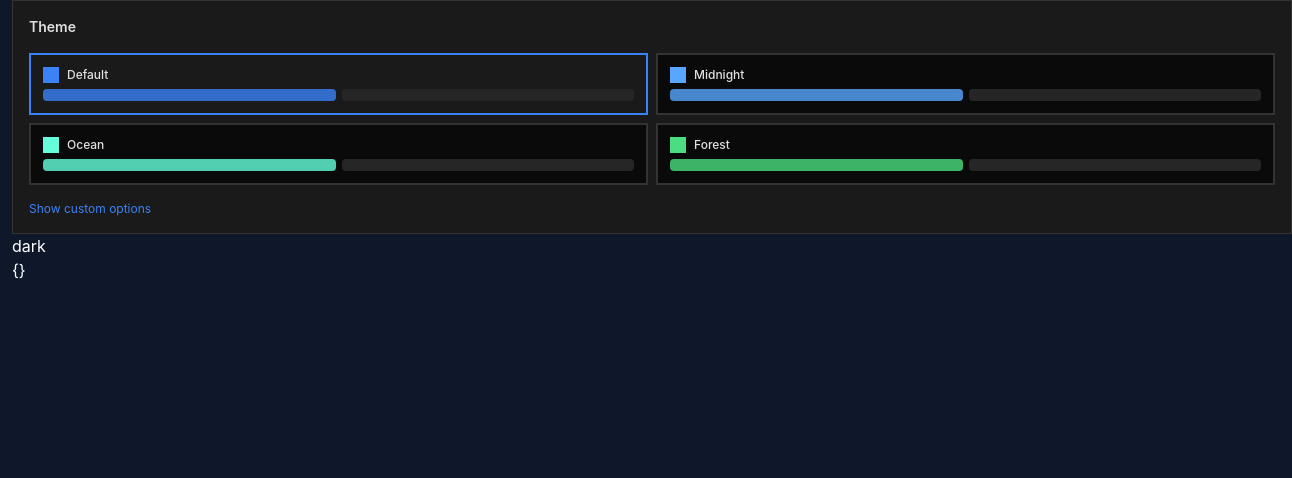
ThemeSwitcher › selecting preset after custom resets to preset
Click the button with test id "toggle-custom": (45, 208) [29,201,1275,217]
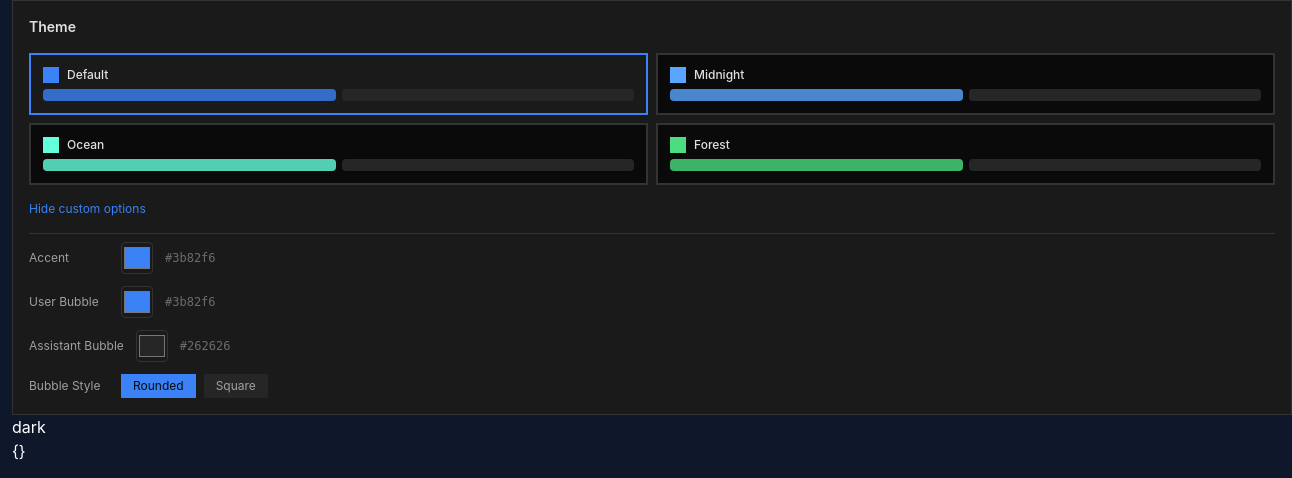
In the colour field with test id "color-picker-accent": (137, 258) [121,242,153,274], type "#ff0000"
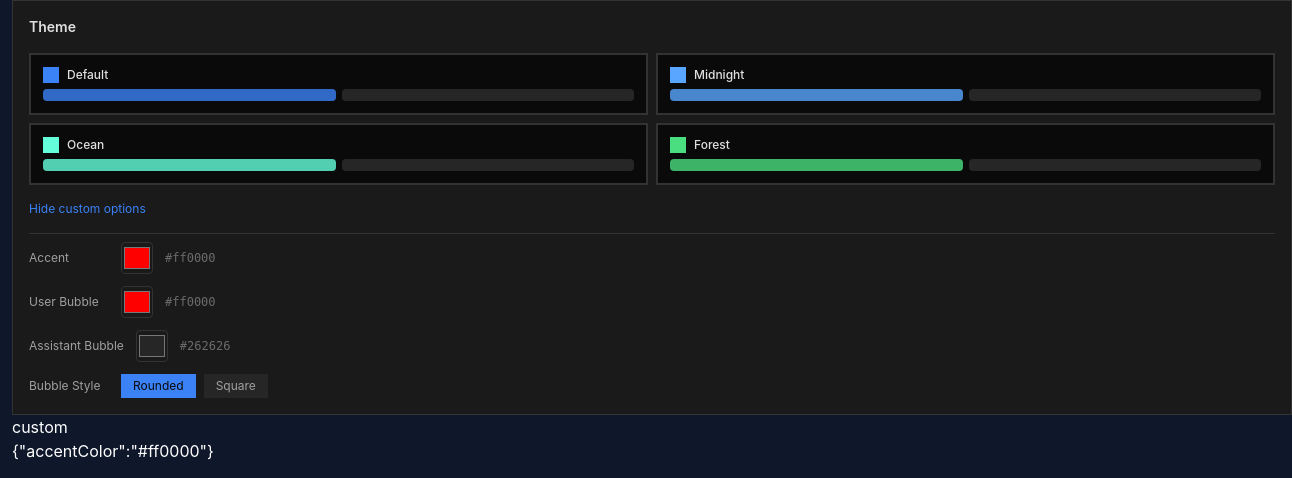
Expected: the text with test id "theme-value" reads "custom", [12,417,68,437]
Click the element with test id "theme-preview-midnight": (966, 84) [656,53,1275,115]
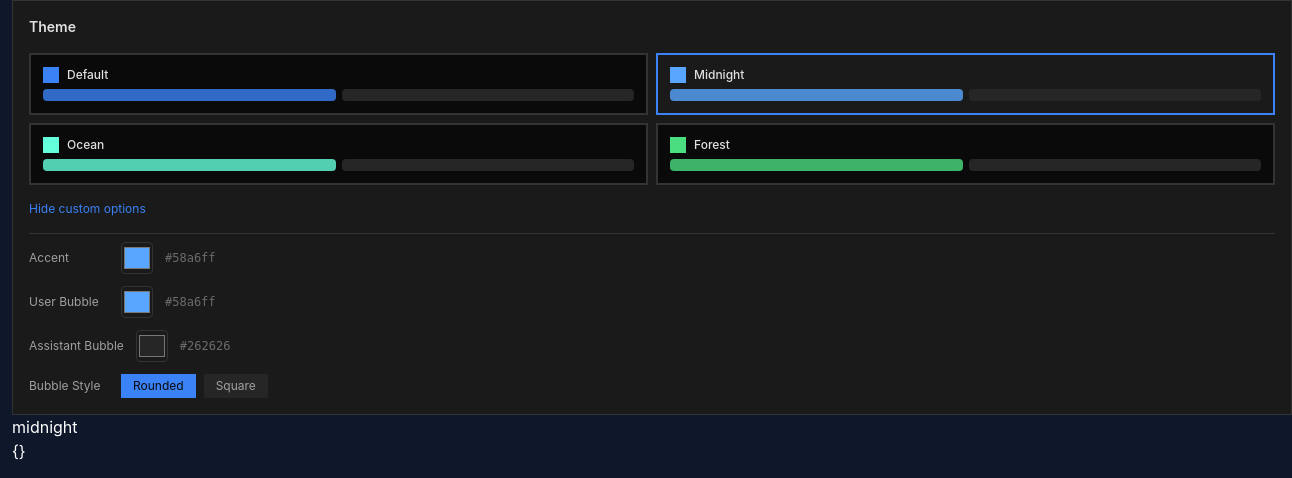
Expected: the text with test id "theme-value" reads "midnight", [12,417,78,437]
Expected: the text with test id "customizations-value" reads "{}", [12,441,26,461]
